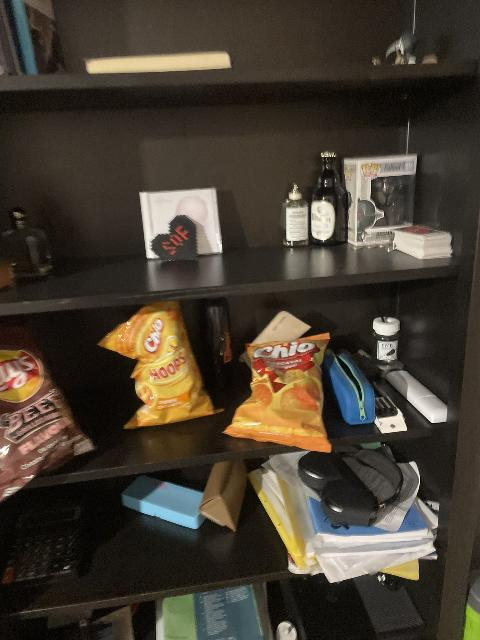Chio Cascaval 125g: (221, 332, 331, 453)
Chio Hula Hoops Cheese 70g: (99, 302, 223, 426)
Lays Beef Grilled Ribs 125g: (0, 333, 98, 511)
